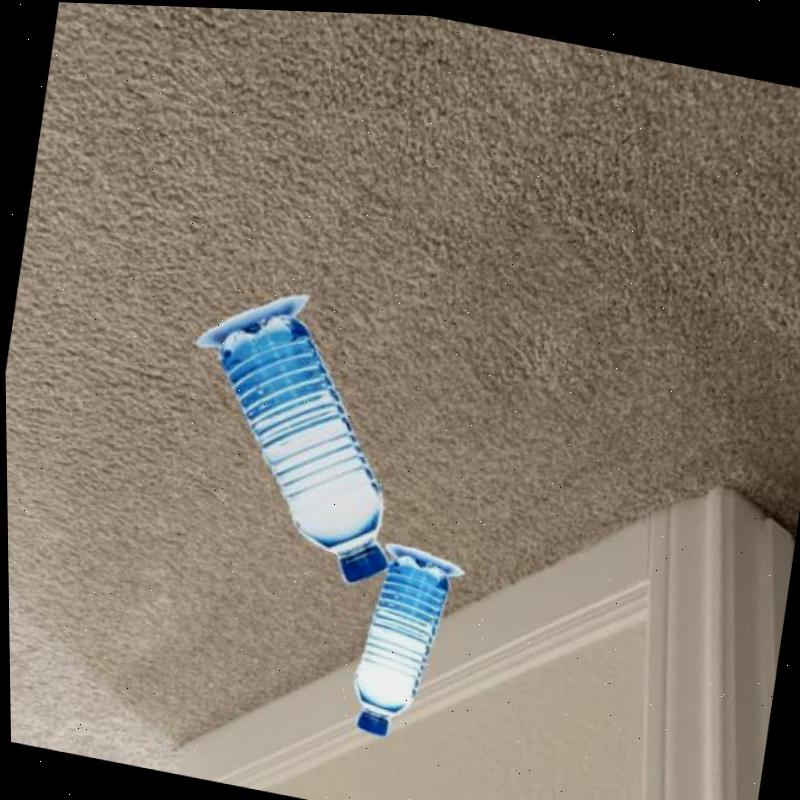botella: (184, 299, 423, 589), (343, 546, 454, 742)
